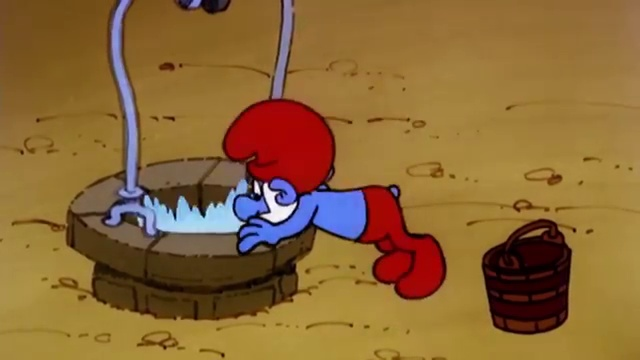smurf: (220, 96, 448, 301)
